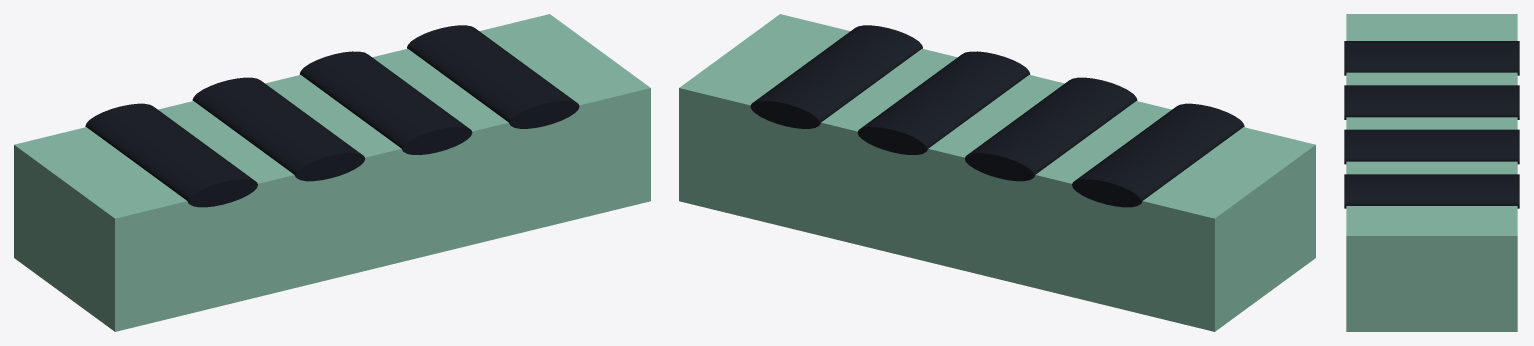
File: cable-holder.glb
3 renders of one model, left to right at view 1: azimuth 30°, elevation 25°; view 2: azimuth 150°, elevation 25°; view 3: azimuth 270°, elevation 25°, orthographic. The views are drawn at different scales.
Visible parts, largest first — view 1: cable-holder; view 2: cable-holder; view 3: cable-holder.
Part boxes in pixels (box(x1,y1,x2,y2)): cable-holder: box(14, 14, 650, 331); cable-holder: box(679, 14, 1315, 331); cable-holder: box(1344, 14, 1519, 331).
Size of the model in its own units: 9 by 2 by 3.
